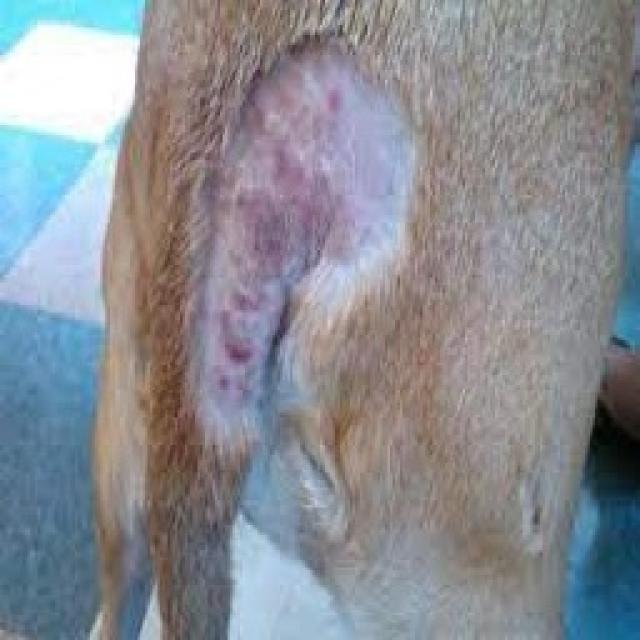hotspot: (204, 68, 350, 417)
